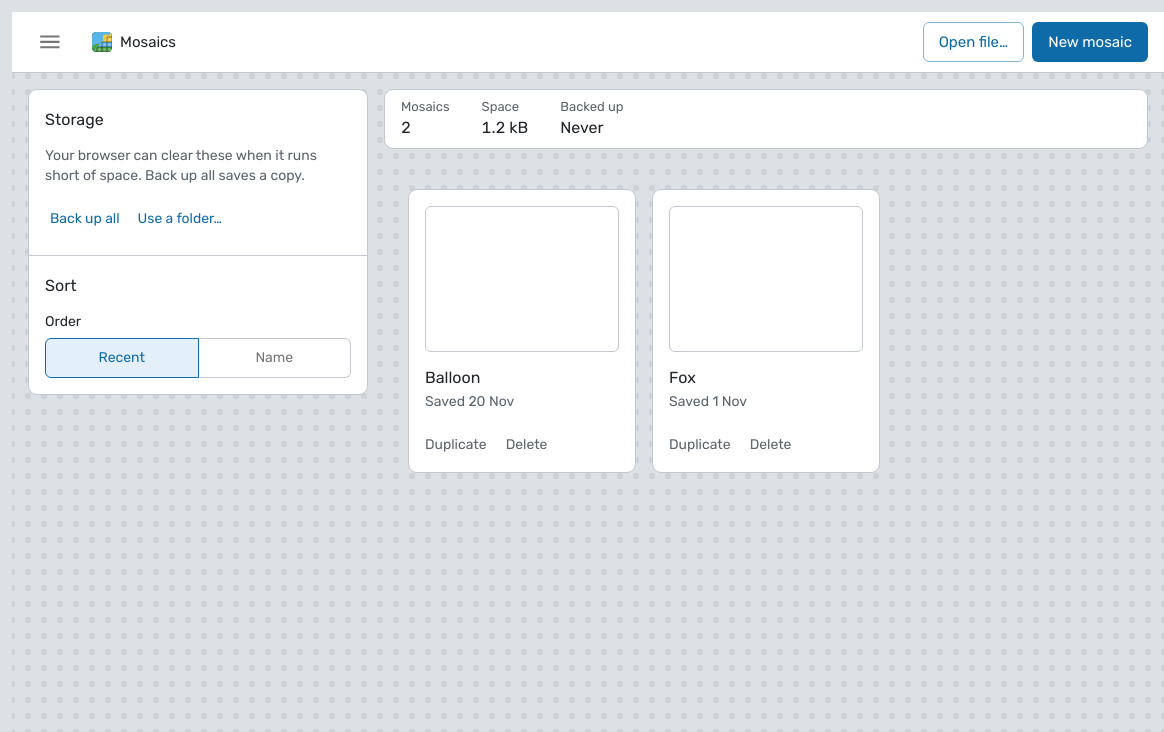
Test: Mosaics: the library › opens a project from its card, with its settings and name
The image size is (1164, 732).
Check: the list item "Balloon" is shown, box left=408, top=189, right=636, bottom=473
Click the link "Fox Saved 1 Nov": x=766, y=309 left=669, top=206, right=863, bottom=412
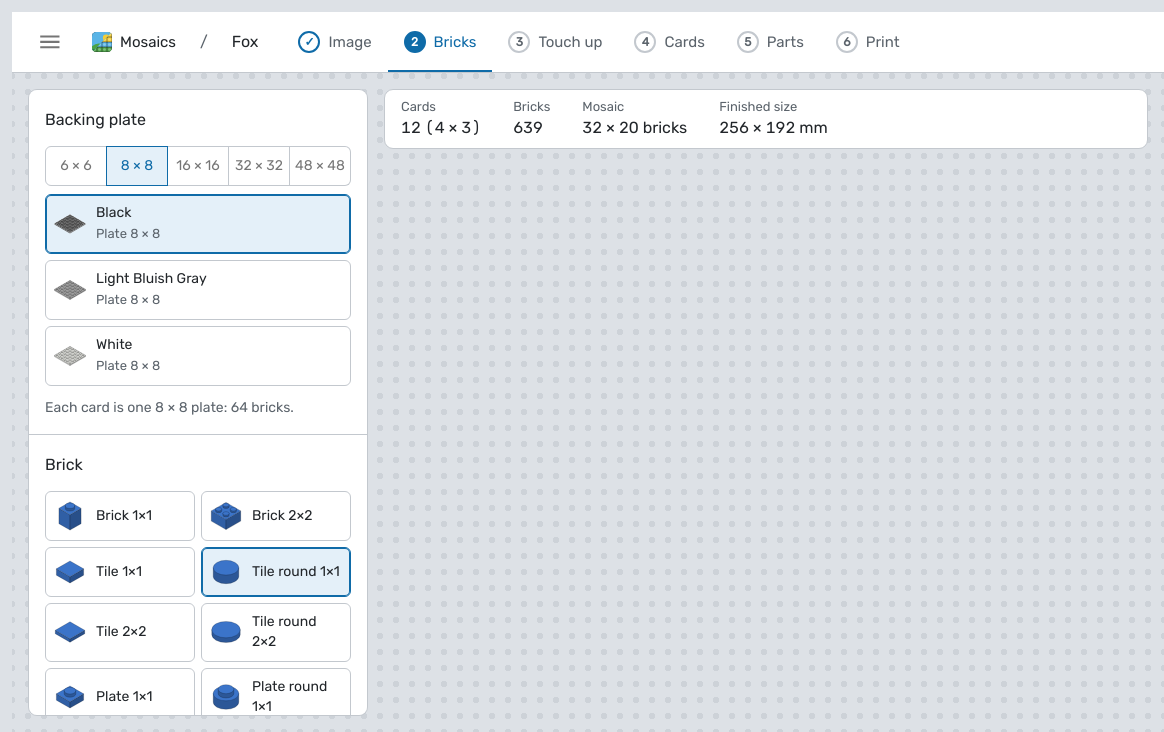
Click the tab "4 Cards": x=670, y=42 left=618, top=12, right=721, bottom=72
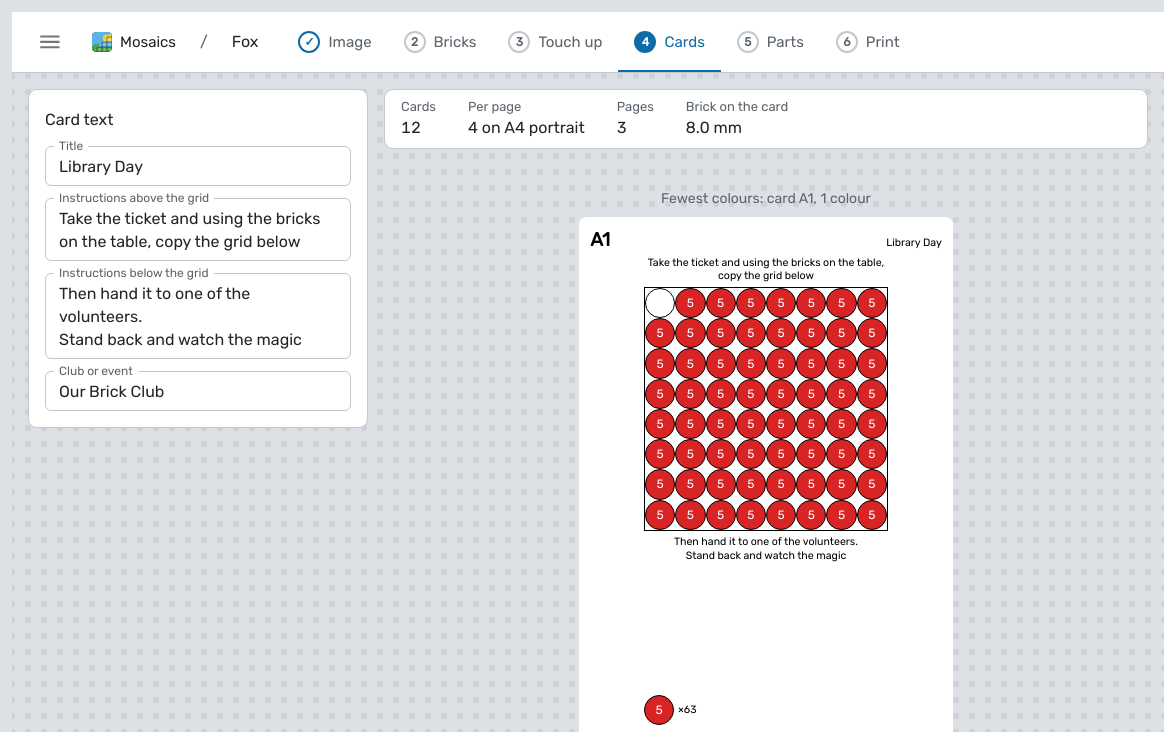
Check: the field labelled "Title" holds "Library Day", box left=45, top=146, right=351, bottom=186
